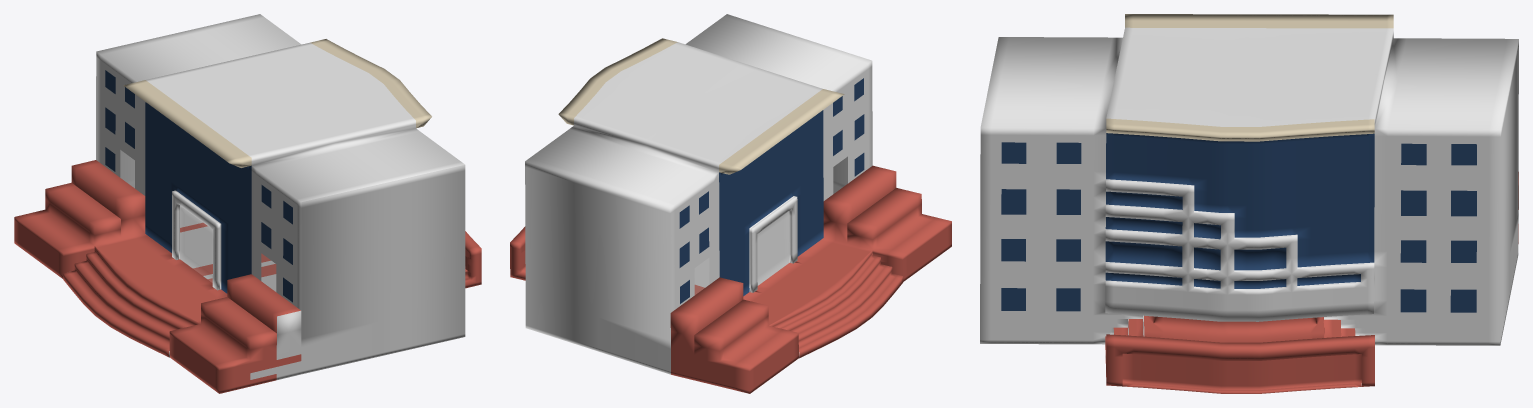
File: mid10.fbx
The picture shows the model from 3 angles, left to right: view 1: azimuth 30°, elevation 25°; view 2: azimuth 150°, elevation 25°; view 3: azimuth 270°, elevation 25°; orthographic projection. The views are drawn at different scales.
Parts seen in each view (by area): view 1: Plane_001; view 2: Plane_001; view 3: Plane_001.
Part boxes in pixels (x1=…): Plane_001: x1=14, y1=14, x2=481, y2=393; Plane_001: x1=510, y1=14, x2=951, y2=393; Plane_001: x1=980, y1=14, x2=1518, y2=393.
Size of the model in its own units: 7.85 by 4.18 by 8.77.
